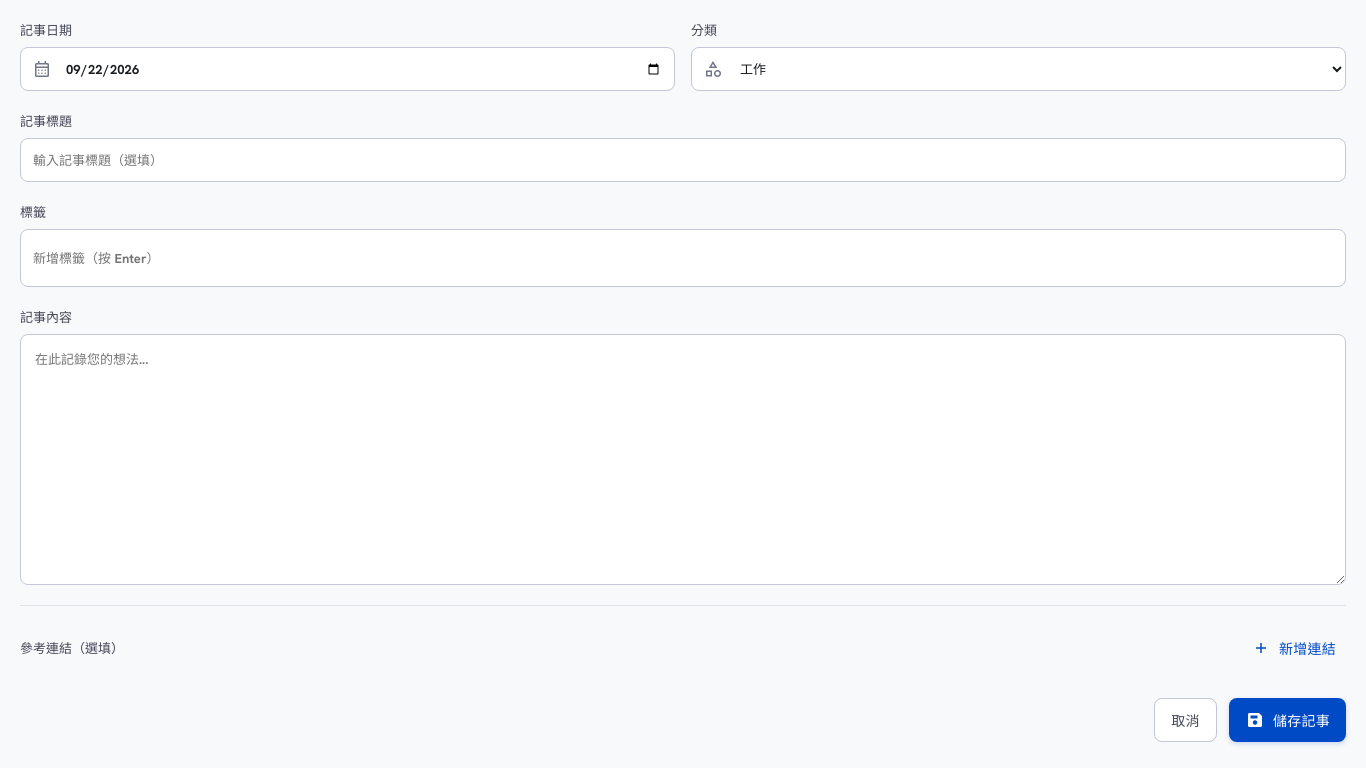
儲存記事時按鈕顯示「儲存中...」並處於停用狀態
The image size is (1366, 768).
Step 1. Type "測試儲存文字" into the text box labelled "記事內容" → (683, 459), box [20,334,1346,585]
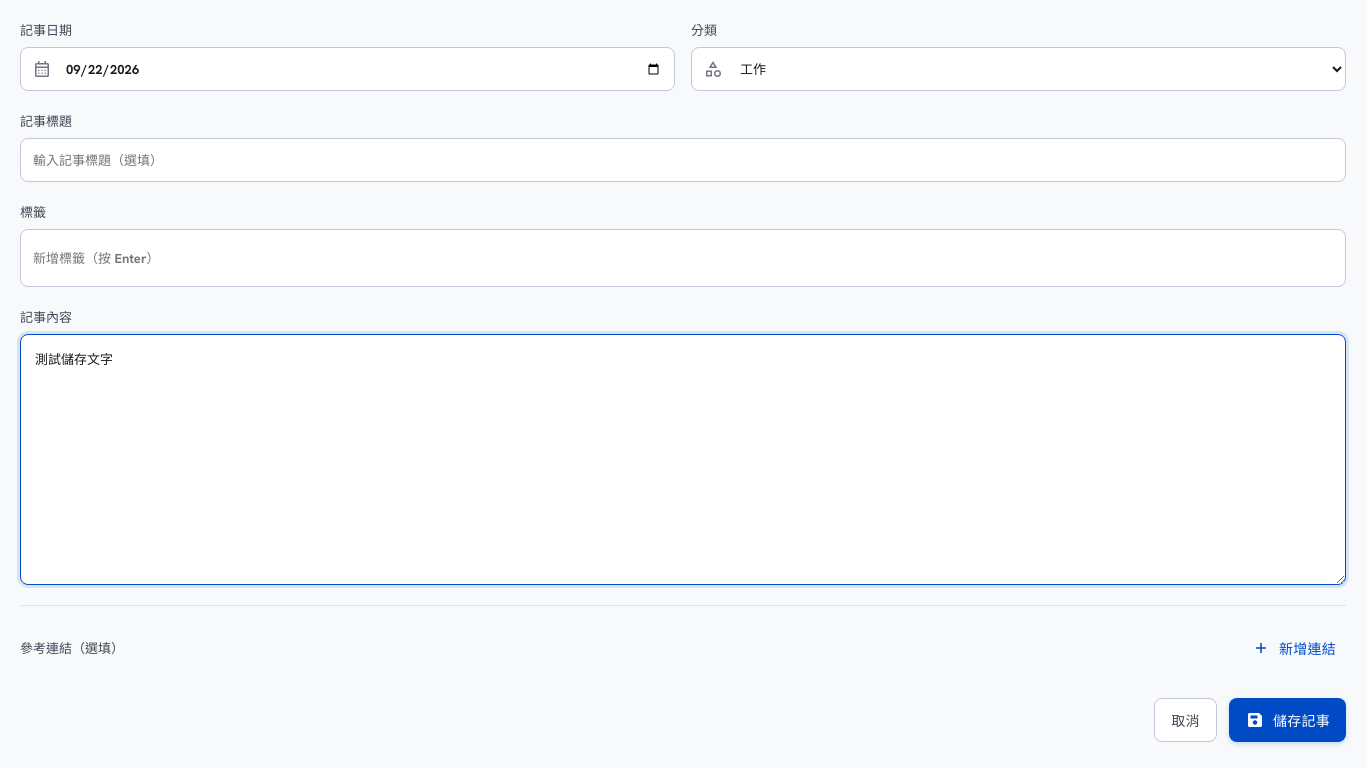
Step 2. Select "工作" in the dropdown labelled "分類" → (1018, 69), box [691,47,1346,91]
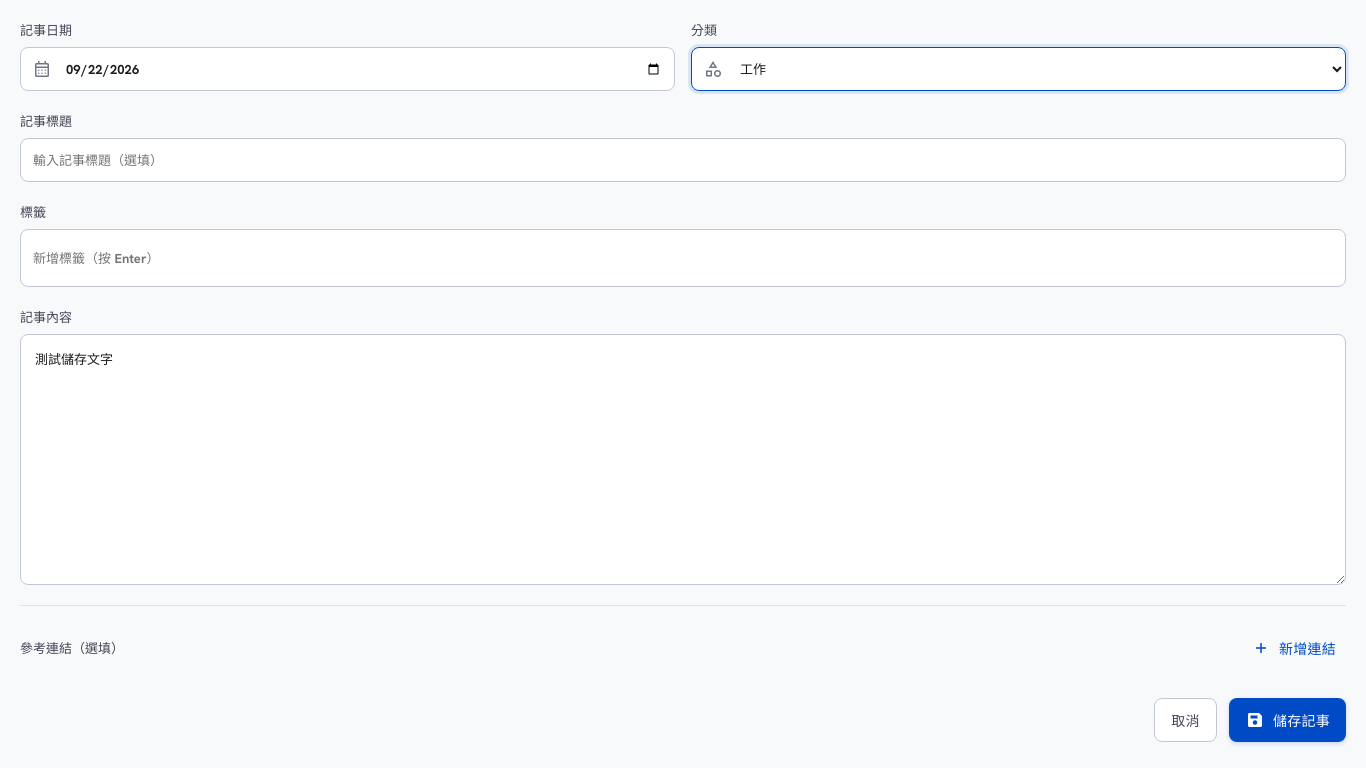
Step 3. Click the button "儲存記事" → (1287, 720), box [1229,698,1346,742]
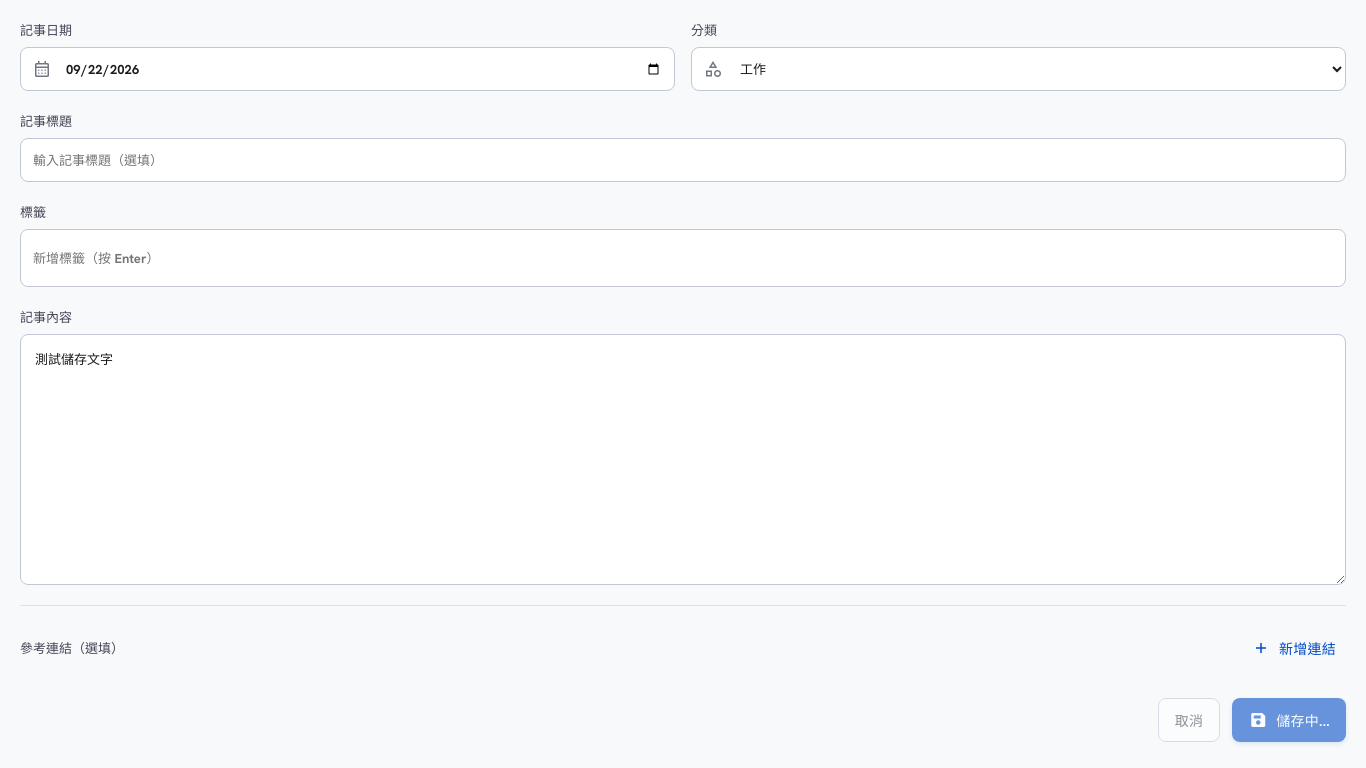
Expected: the button "儲存中..." is disabled, [1232,698,1346,742]
